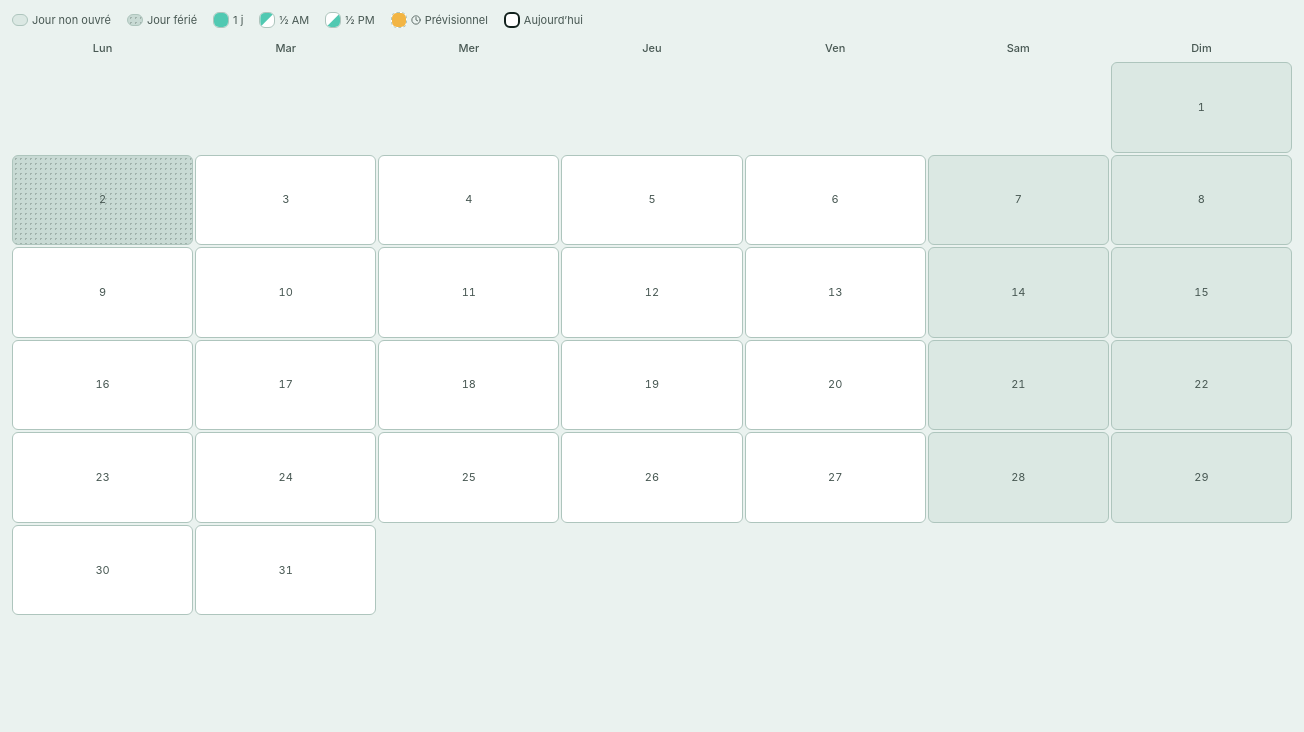
MonthCalendar › sélection par glissement › propose d appliquer une valeur à toute la plage
Press the mouse on the button "9" at (103, 292), box [12,247,193,338]
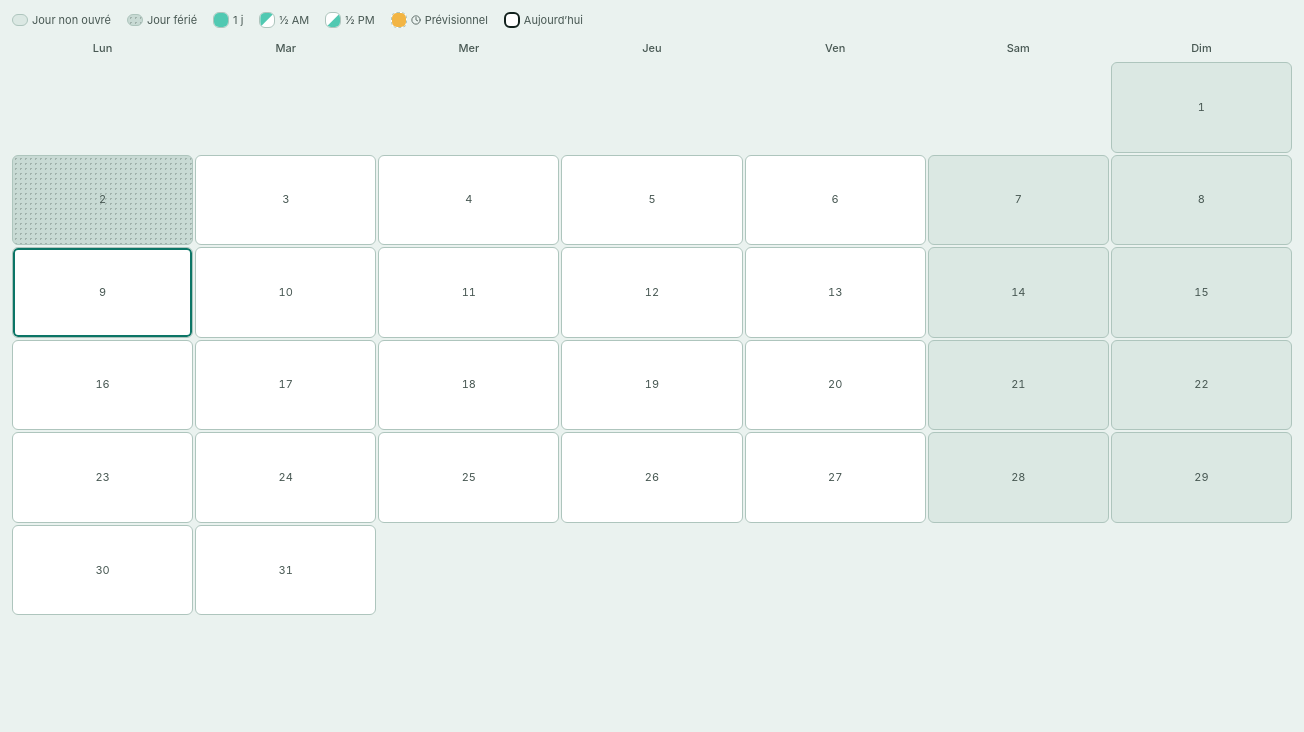
Hover over the button with test id "case-2026-03-10" at (286, 292), box [195,247,376,338]
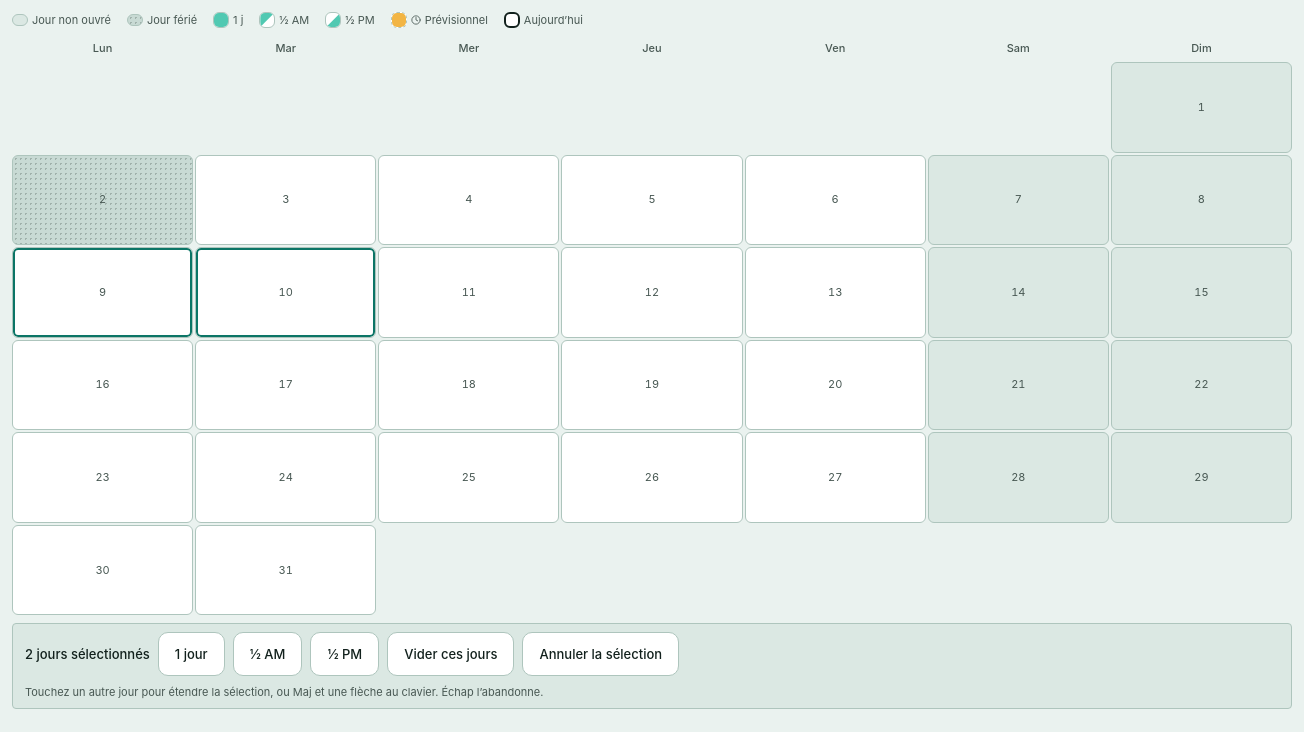
Hover over the button "11" at (469, 292), box [378,247,559,338]
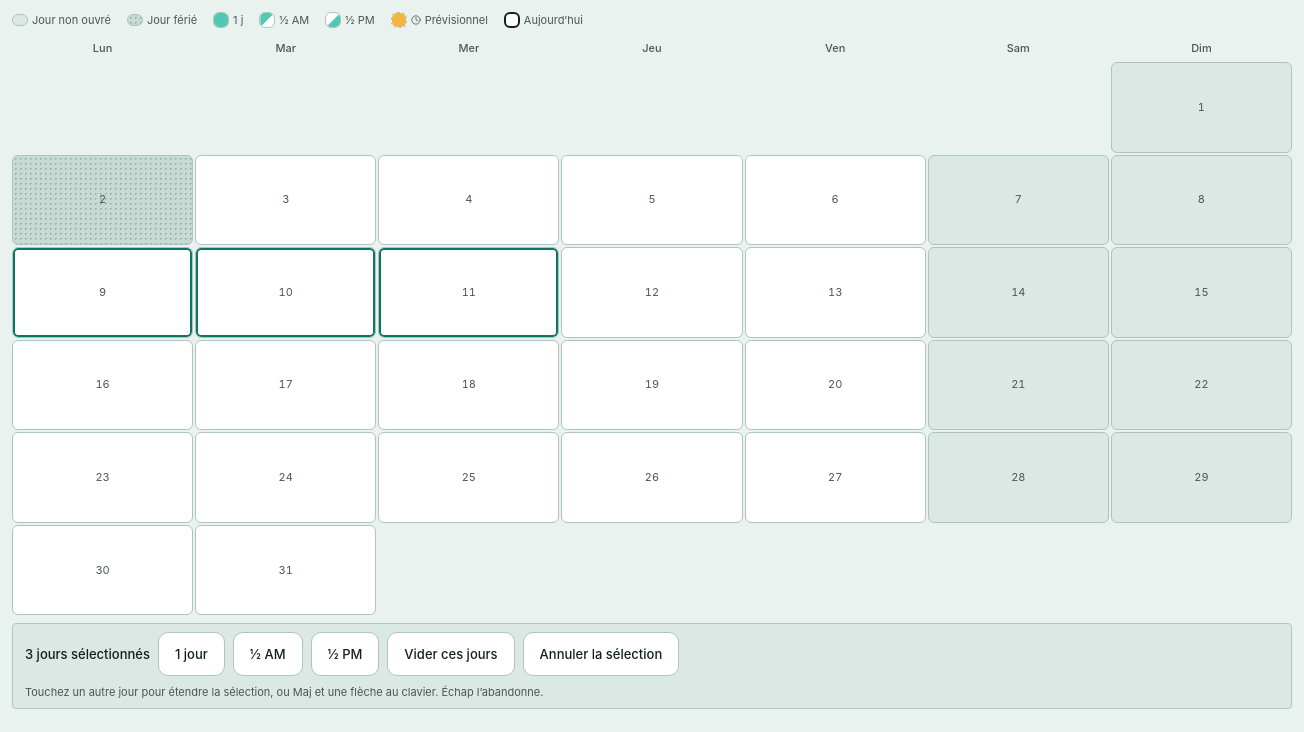
Check: the button "1 jour" is shown, box [158,632,225,676]
Check: the button "½ AM" is shown, box [233,632,302,676]
Check: the message with test id "barre-selection" shows "3 jours", box [12,623,1292,709]
